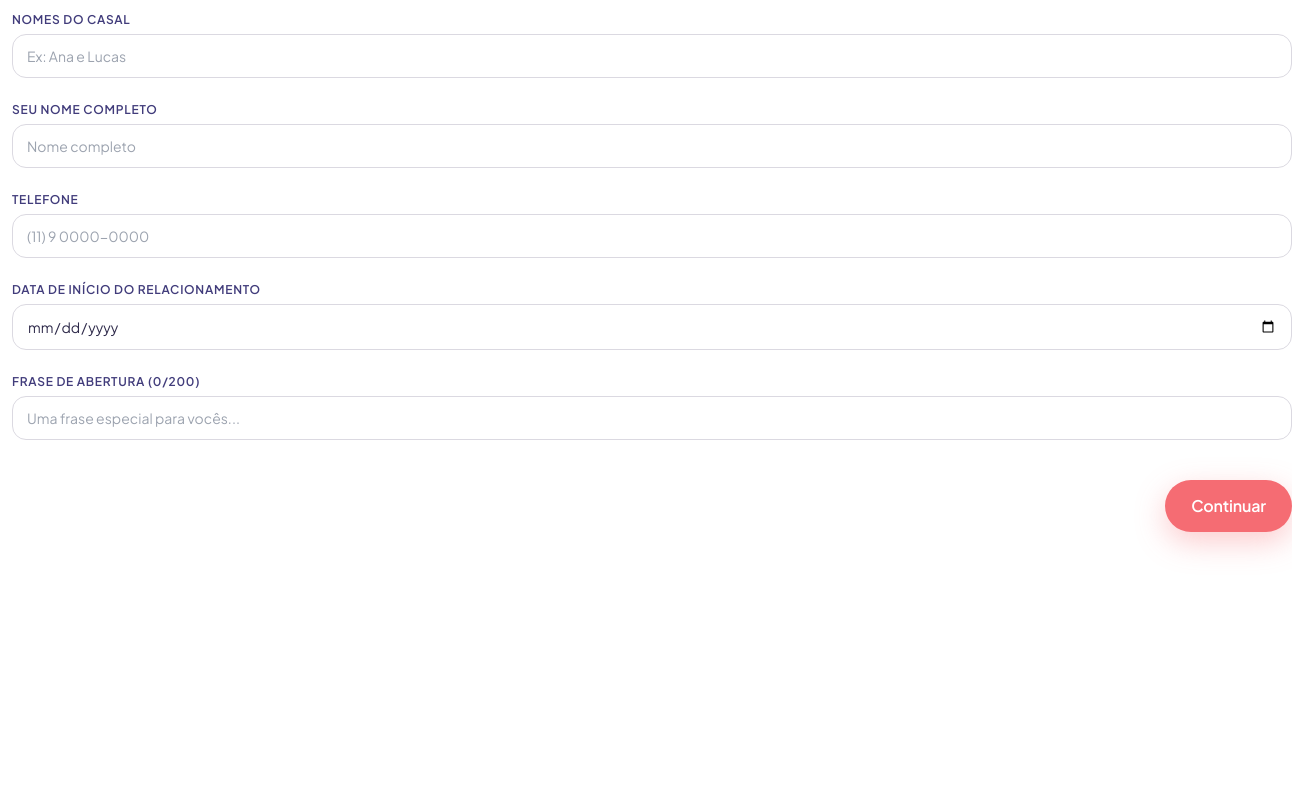
Scenario: Step1Voces › should show validation error when startDate is empty on submit
The width and height of the screenshot is (1304, 812).
Type "Ana e João" into the field with placeholder "Ex: Ana e Lucas" at (652, 56), box x1=12 y1=34 x2=1292 y2=78
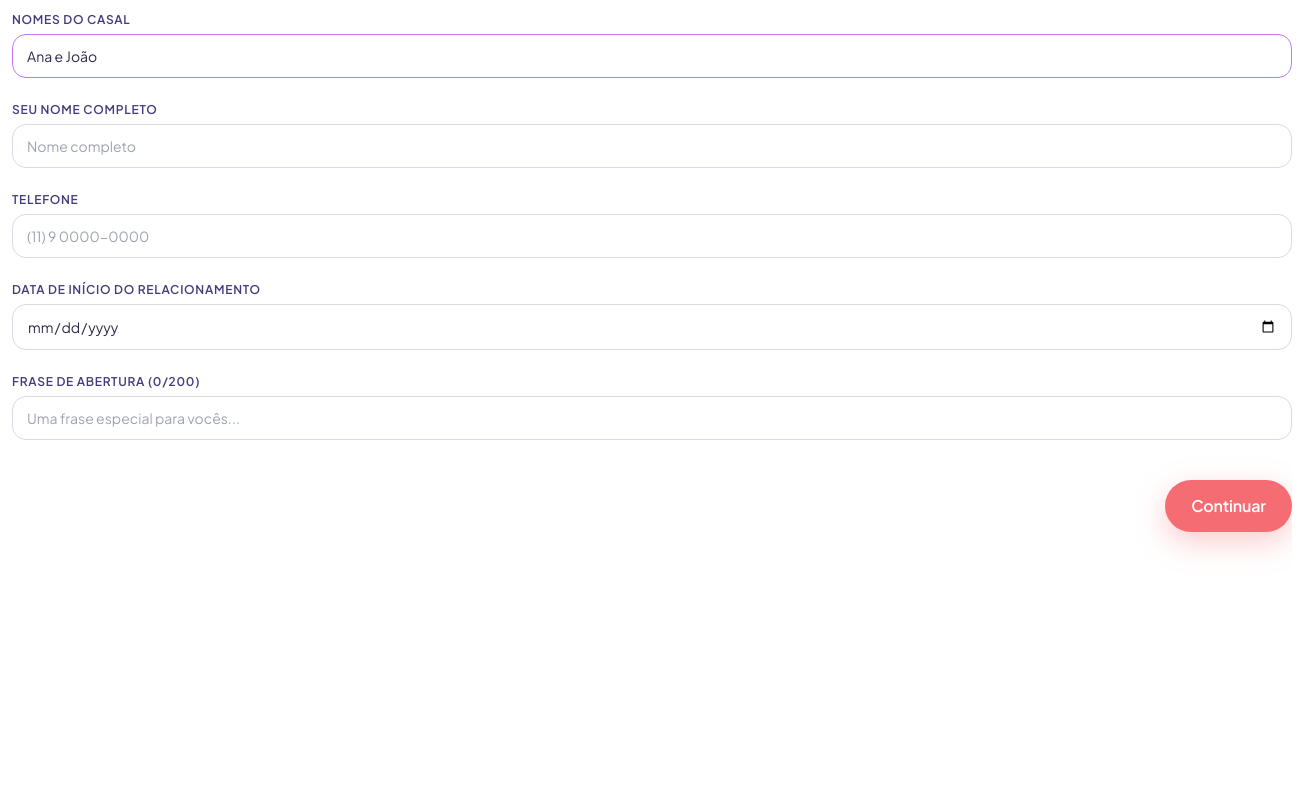
Type "João Silva" into the field with placeholder "Nome completo" at (652, 146), box x1=12 y1=124 x2=1292 y2=168
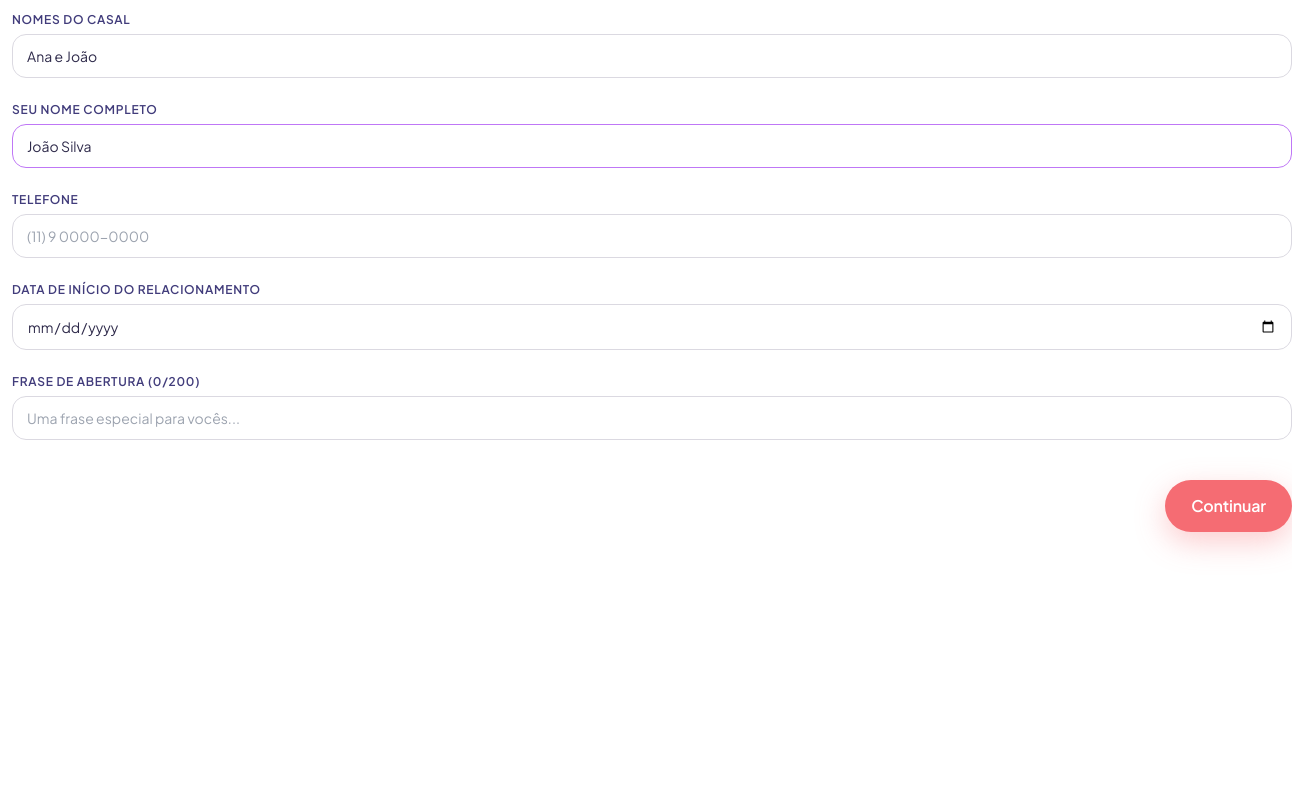
Type "11999999999" into the field with placeholder "(11) 9 0000-0000" at (652, 236), box x1=12 y1=214 x2=1292 y2=258
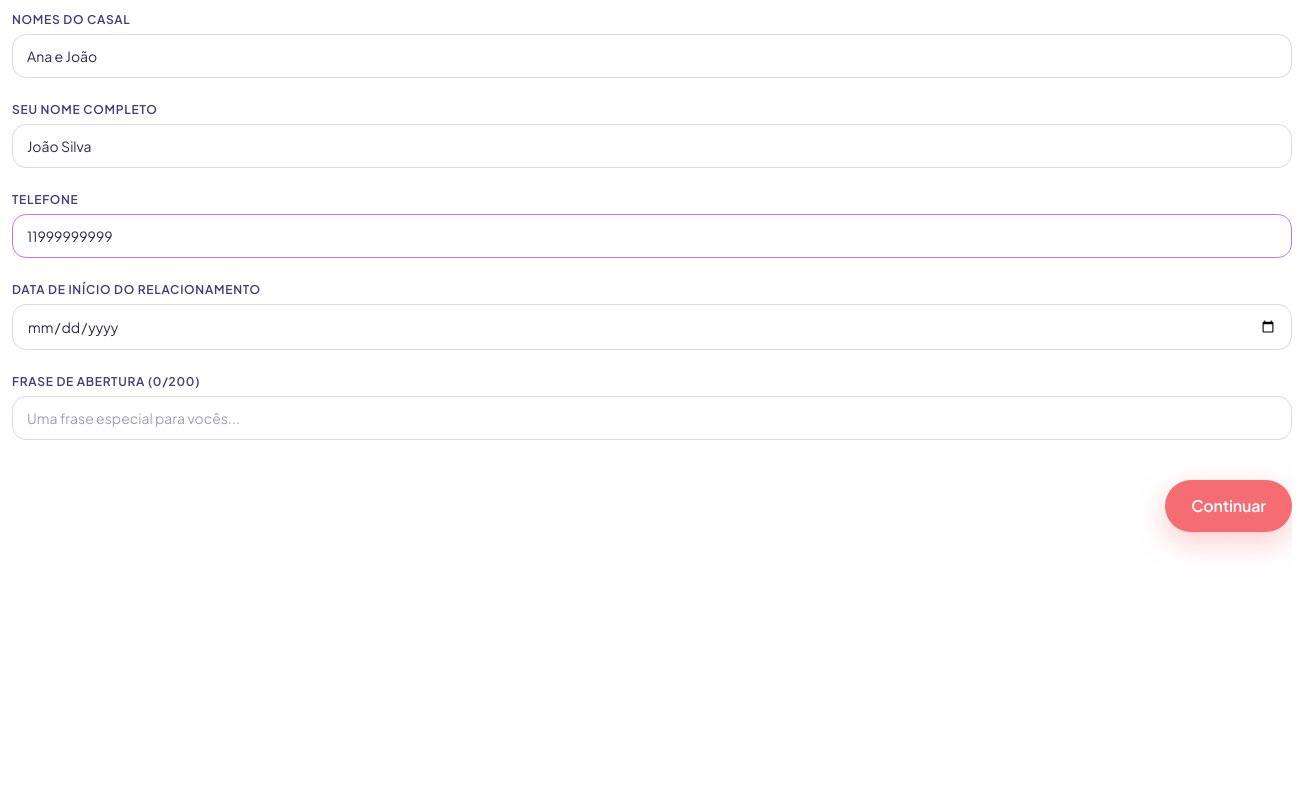
Click the button "Continuar" at (1229, 506), box x1=1165 y1=480 x2=1292 y2=532
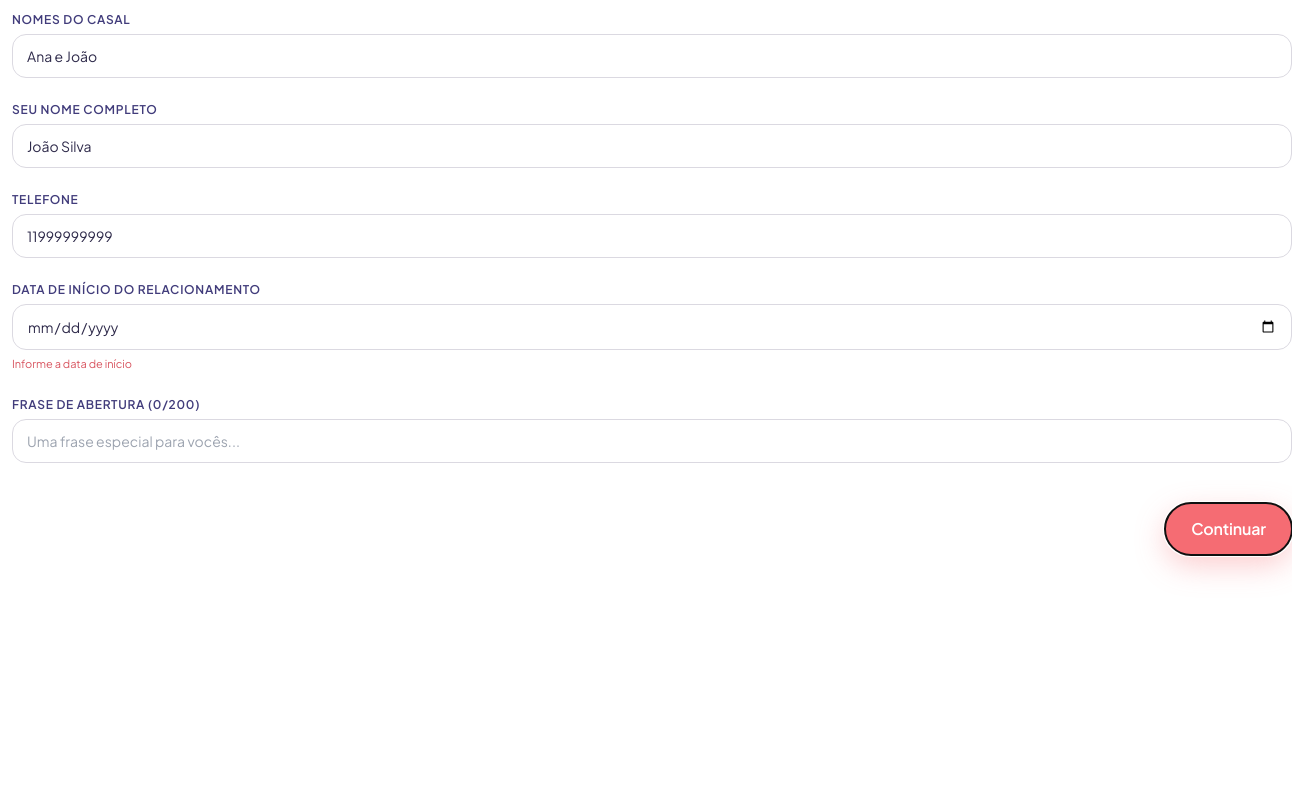
Check: the text "Informe a data de início" is shown, box x1=12 y1=357 x2=132 y2=370
